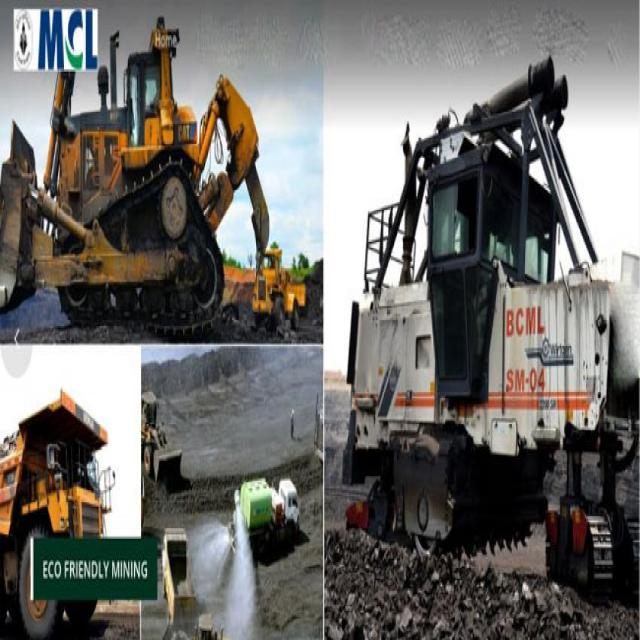buldozerpayloadergrader: (0, 18, 271, 344), (254, 243, 308, 334), (142, 386, 184, 489)
dump_truck: (2, 381, 114, 638), (232, 474, 302, 553), (158, 521, 198, 640)
